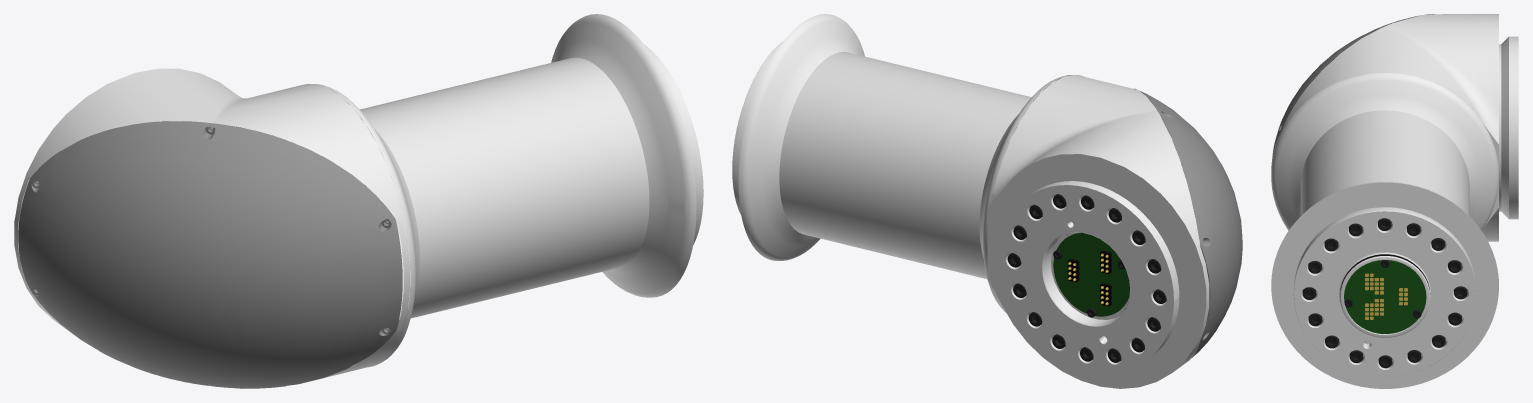
3 views of the same model, side by side, from view 1: azimuth 30°, elevation 25°; view 2: azimuth 150°, elevation 25°; view 3: azimuth 270°, elevation 25° (orthographic). The views are drawn at different scales.
Visible parts, largest first — view 1: L116.001; view 2: L116.001; view 3: L116.001.
Part boxes in pixels (box(x1,y1,x2,y2)): L116.001: box(14, 14, 703, 388); L116.001: box(732, 14, 1242, 388); L116.001: box(1271, 14, 1518, 388).
Size of the model in its own units: 0.2627 by 0.116 by 0.126.
